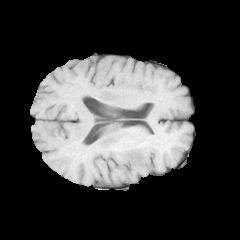glioma: (117, 145, 149, 168)
